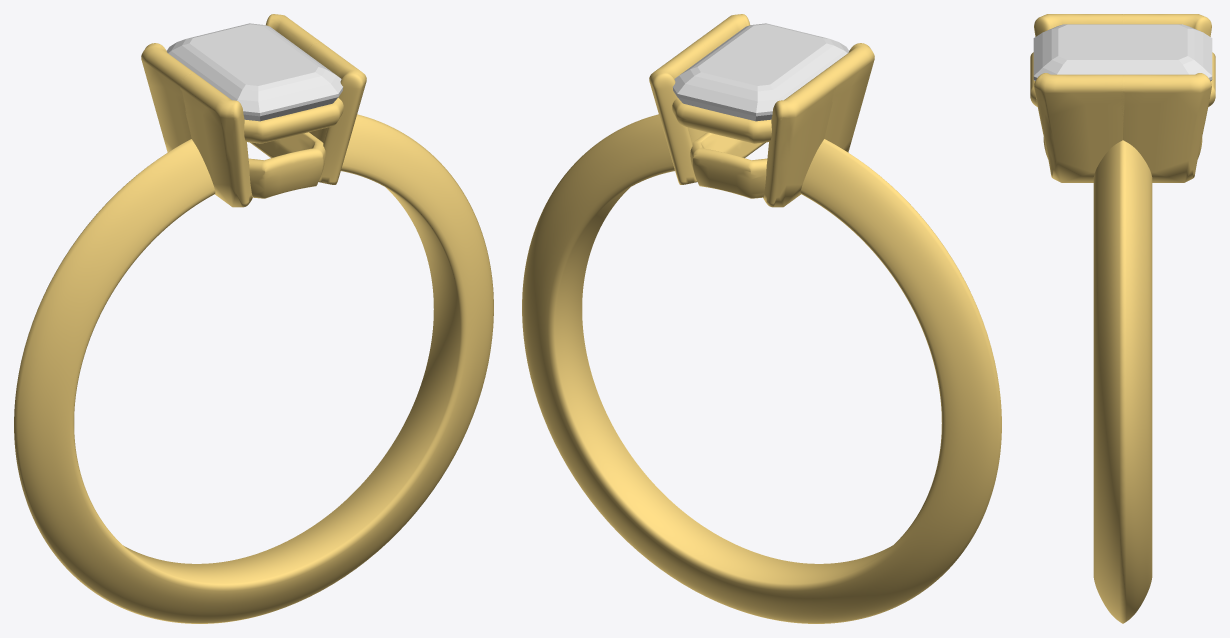
The model's file is diamond-emerald-yellowgold-halfmoonbezel-knifeedge-solitaire.glb.
3 views of the same model, side by side, from view 1: azimuth 30°, elevation 25°; view 2: azimuth 150°, elevation 25°; view 3: azimuth 270°, elevation 25° (orthographic).
Visible parts, largest first — view 1: metal.002, stone; view 2: metal.002, stone; view 3: metal.002, stone.
Part boxes in pixels (x1,y1,x2,y2): metal.002: [14, 14, 493, 623]; stone: [167, 23, 343, 121]; metal.002: [522, 14, 1001, 623]; stone: [673, 23, 848, 121]; metal.002: [1030, 14, 1215, 623]; stone: [1033, 24, 1212, 81].
Bounding box in the file's own units: 20.5 × 22.94 × 6.94.
